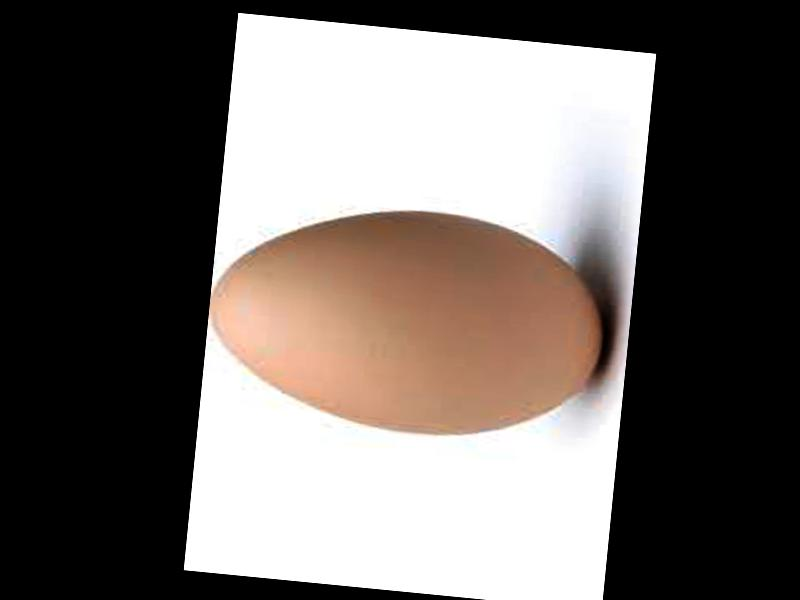Eggs: (202, 192, 616, 449)
